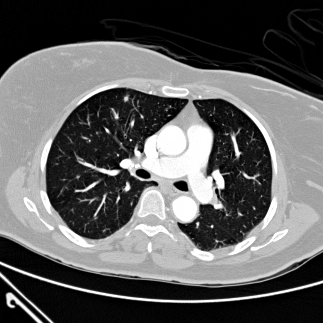nodule: (123, 95, 129, 101)
